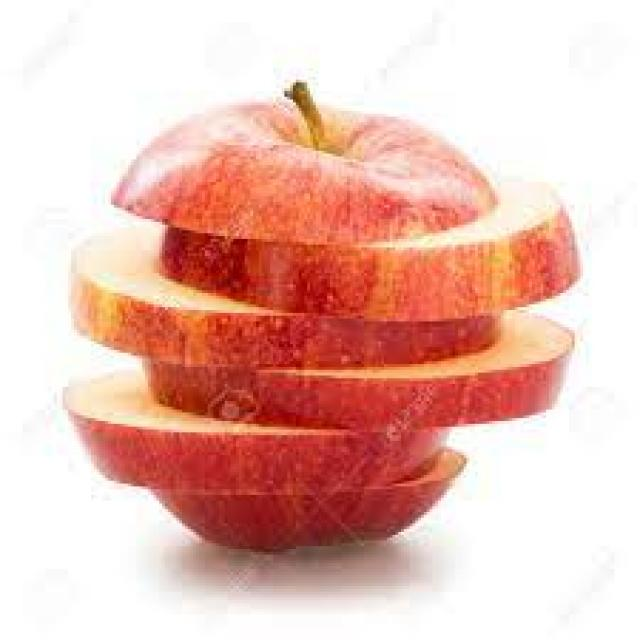Apple: (60, 91, 578, 551)
